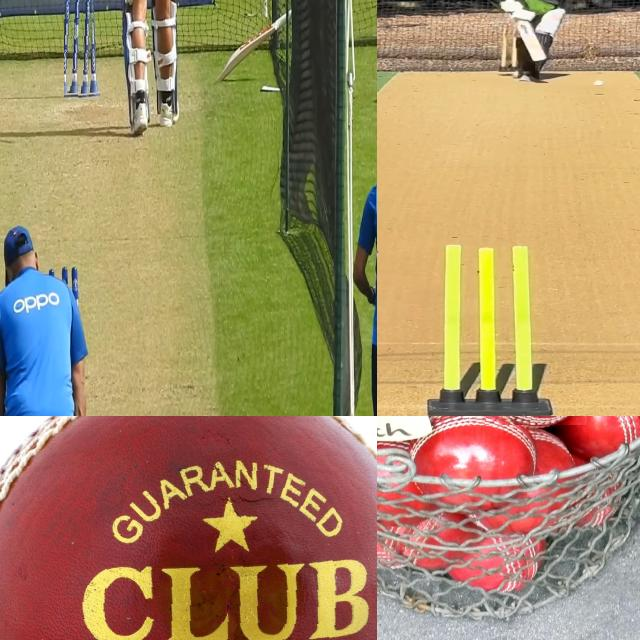Cricket ball: (0, 416, 377, 640), (591, 78, 607, 89)
Stumps: (425, 243, 557, 416), (64, 0, 98, 98)
